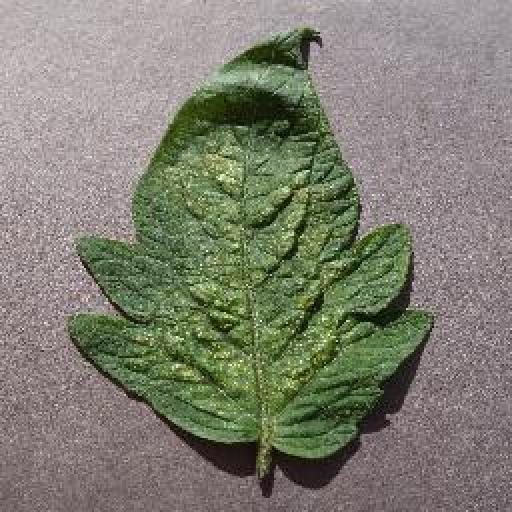disease_tomato: (64, 28, 432, 457)
